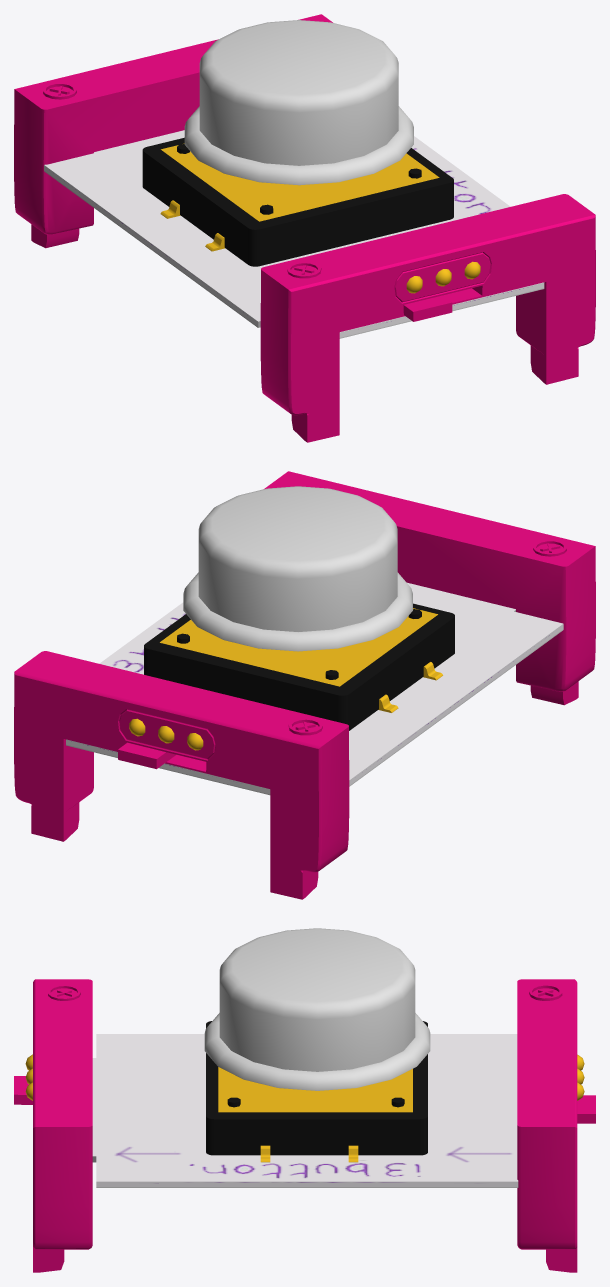
The model's file is littlebit i3 button.fbx.
3 renders of one model, top to bottom at view 1: azimuth 30°, elevation 25°; view 2: azimuth 150°, elevation 25°; view 3: azimuth 270°, elevation 25°, orthographic.
Parts seen in each view (by area): view 1: Line001, Cylinder006, Line002, Box001, Button-down, Plane001, SShape001; view 2: Line002, Cylinder006, Line001, Box001, Button-down, Plane001, SShape001; view 3: Box001, Cylinder006, Line002, Line001, Button-down, Plane001.
Boxes of the visible parts, x1,y1,x2,y2 form: Line001: (260, 194, 595, 442); Cylinder006: (184, 20, 413, 185); Line002: (14, 14, 332, 248); Box001: (44, 130, 544, 337); Button-down: (142, 137, 453, 266); Plane001: (161, 143, 439, 221); SShape001: (44, 170, 544, 338); Line002: (14, 651, 349, 899); Cylinder006: (183, 486, 412, 651); Line001: (264, 471, 595, 705); Box001: (66, 582, 563, 794); Button-down: (144, 603, 454, 730); Plane001: (160, 608, 437, 686); SShape001: (66, 629, 563, 795); Box001: (92, 1034, 518, 1186); Cylinder006: (204, 928, 430, 1090); Line002: (517, 979, 595, 1272); Line001: (14, 979, 92, 1272); Button-down: (206, 1021, 427, 1155); Plane001: (218, 1067, 412, 1112).
Bounding box in the file's own units: 26.28 × 20.05 × 43.59.
Materials: 5 (1 with a texture image).
